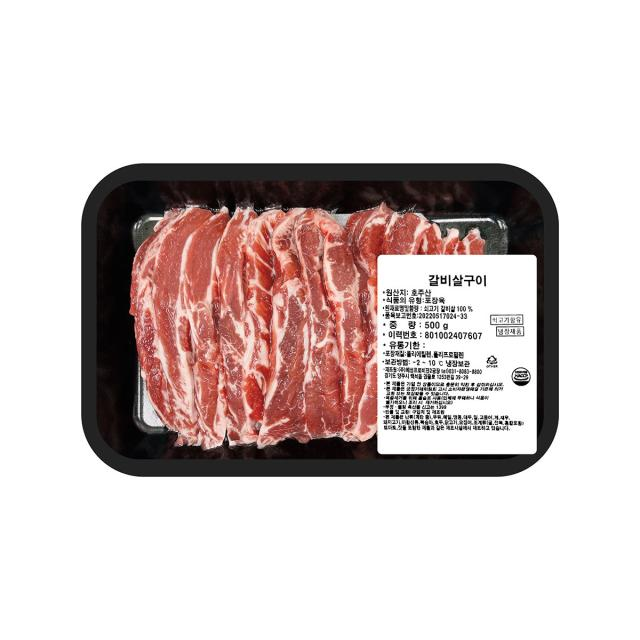pork: (51, 142, 584, 486)
